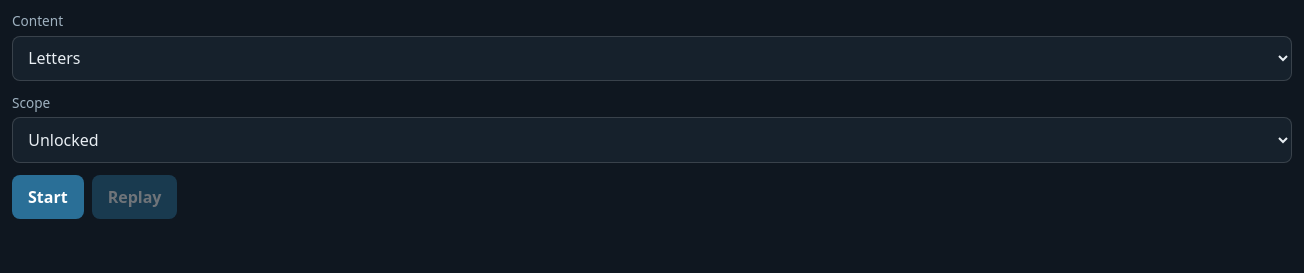
CopyPractice persistence › shows a safe unavailable state for callsigns without unlocked digits
Step 1. Select "Callsigns" in the dropdown labelled "Content" → (652, 58), box [12,36,1292,81]
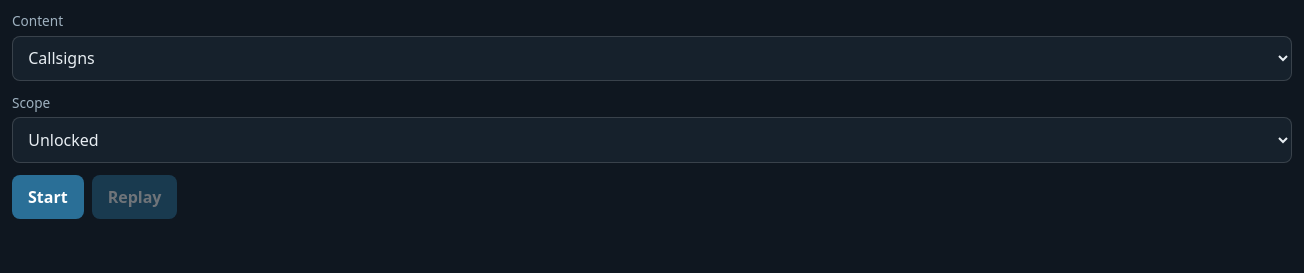
Step 2. Click the button "Start" → click(48, 197), box [12,175,84,219]
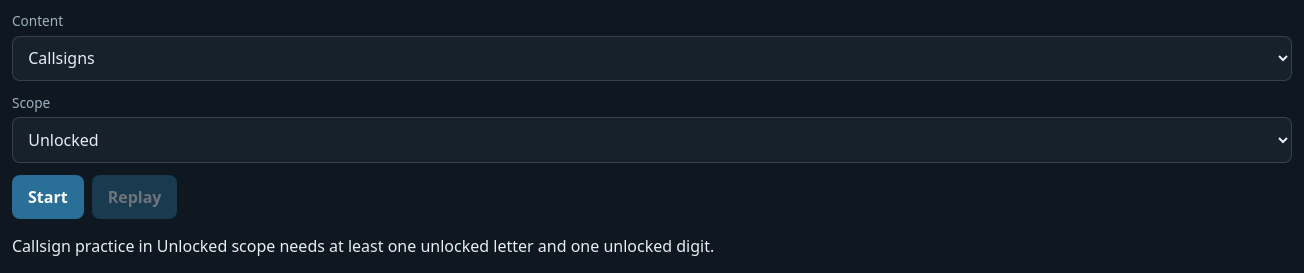
Result: the message shows "Callsign practice in Unlocked scope needs at least one unlocked letter and one unlocked digit." at [12,235,714,257]
